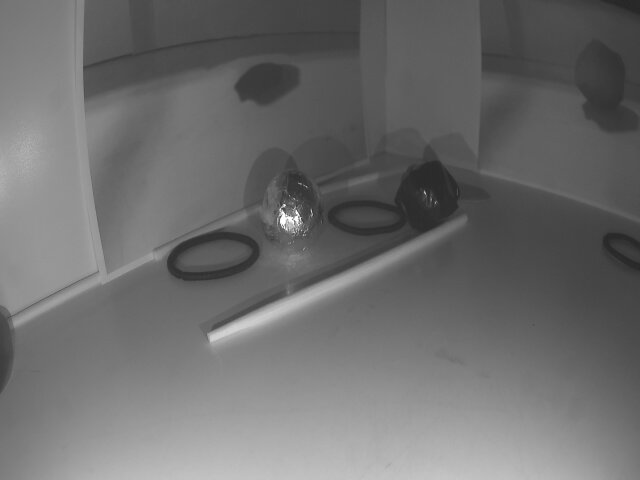Dead: (395, 160, 461, 232)
Live: (256, 169, 320, 249)
